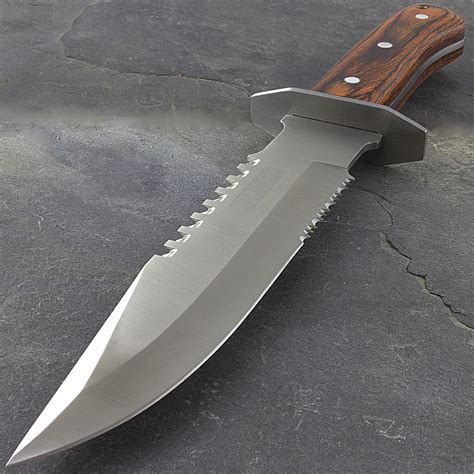knife: (5, 4, 467, 466)
